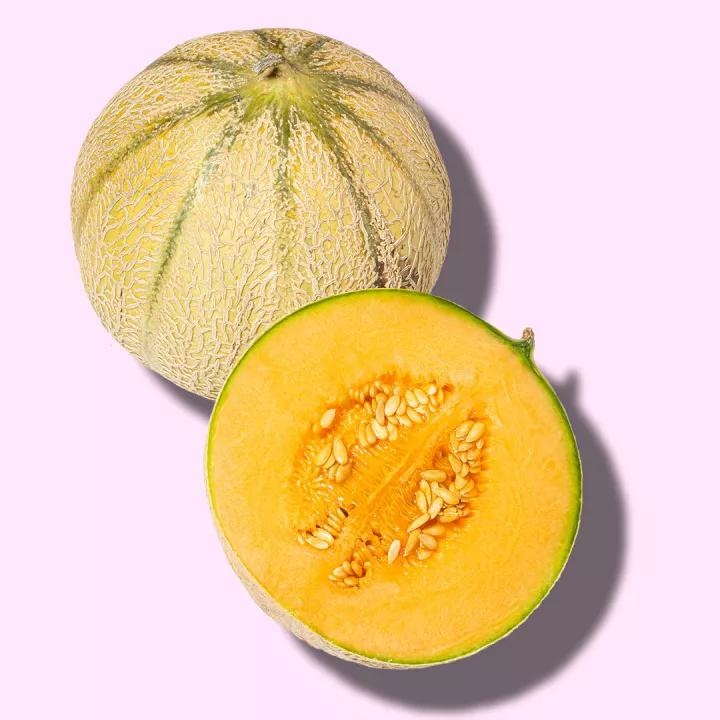apple: (204, 288, 584, 671), (69, 26, 453, 402)
apricot: (203, 287, 584, 671), (69, 26, 453, 402)
banana: (204, 288, 584, 671), (70, 26, 453, 402)
cherry: (204, 287, 584, 671), (70, 26, 453, 403)
grapes: (287, 373, 488, 589)
kiwi: (204, 287, 584, 670), (70, 26, 453, 402)
melon: (203, 287, 584, 671), (69, 26, 453, 402)
potato: (204, 288, 584, 671), (70, 26, 453, 402)
